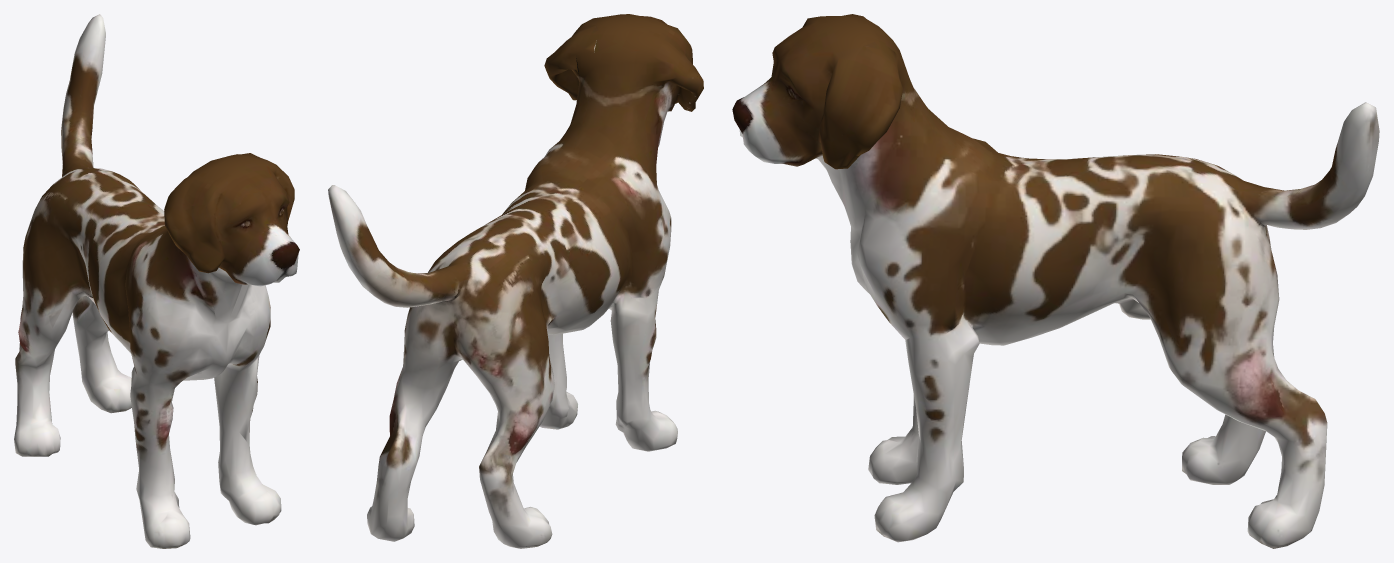
The model's file is detail_2_lo2.glb.
The picture shows the model from 3 angles, left to right: view 1: azimuth 30°, elevation 25°; view 2: azimuth 150°, elevation 25°; view 3: azimuth 270°, elevation 25°; orthographic projection. The views are drawn at different scales.
Visible parts, largest first — view 1: Mesh_0.001; view 2: Mesh_0.001; view 3: Mesh_0.001.
Part boxes in pixels (x1,y1,x2,y2): Mesh_0.001: [14, 14, 299, 548]; Mesh_0.001: [328, 14, 703, 548]; Mesh_0.001: [732, 14, 1379, 548].
Bounding box in the file's own units: 0.3381 × 0.8225 × 1.01.
1 material, 1 textured.
